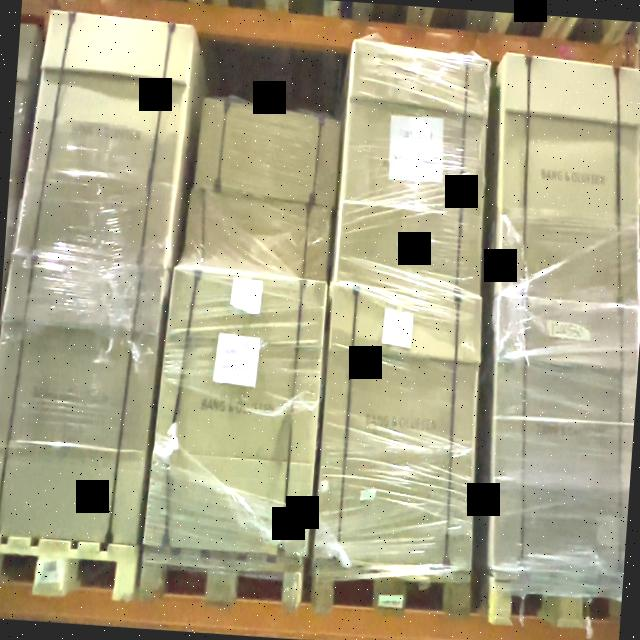box: (147, 266, 328, 553), (314, 284, 485, 558), (0, 254, 162, 540), (18, 11, 192, 261), (484, 299, 640, 572), (335, 44, 495, 292), (492, 54, 640, 301), (190, 96, 342, 208)
